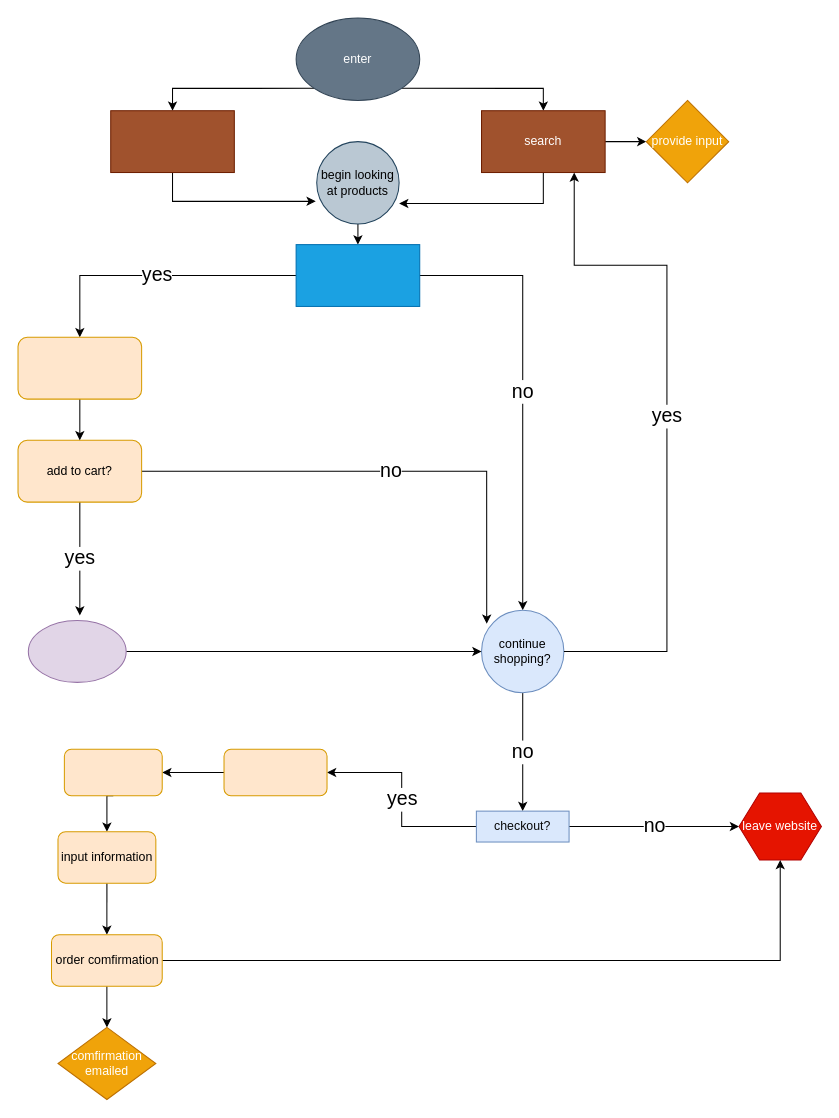
The diagram is 839 pixels wide and 1118 high, and some of its shapes have lost their labels. Each missing label, with the box of its shape:
confirmation to add to cart: (27, 620, 126, 682)
explore: (110, 110, 234, 173)
open webpage: (17, 336, 142, 399)
view a product: (295, 244, 420, 306)
view cart: (223, 748, 327, 796)
view payment: (63, 748, 162, 796)
